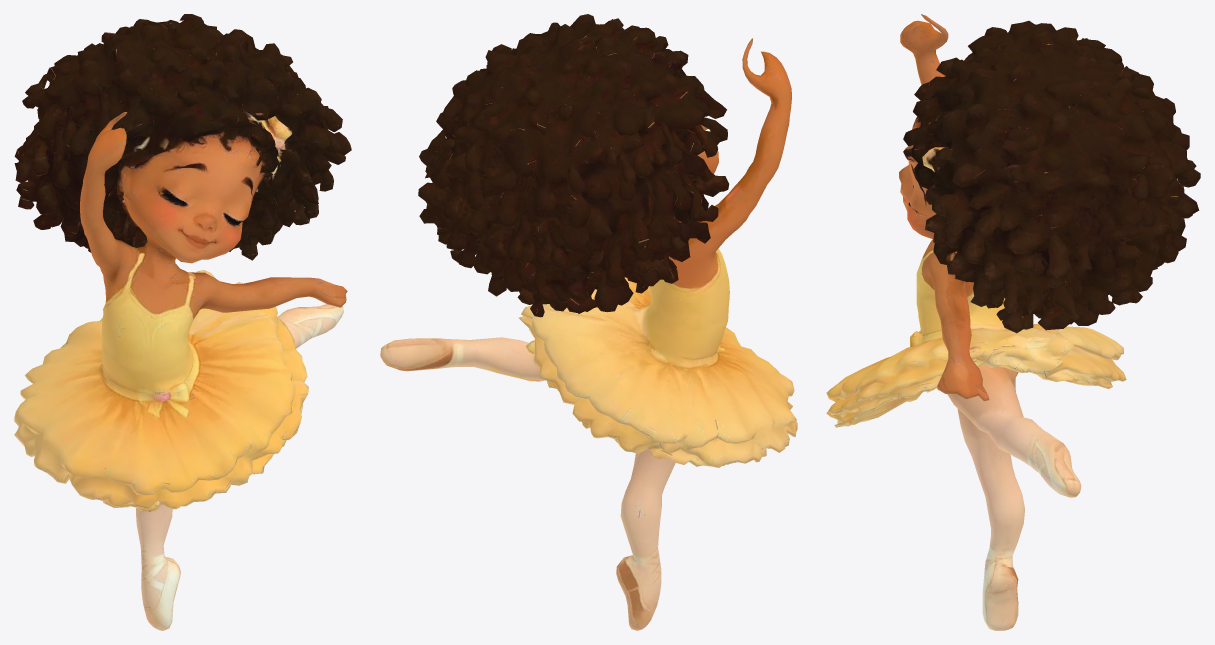
File: deise-bale.glb
The picture shows the model from 3 angles, left to right: view 1: azimuth 30°, elevation 25°; view 2: azimuth 150°, elevation 25°; view 3: azimuth 270°, elevation 25°; orthographic projection. The views are drawn at different scales.
Visible parts, largest first — view 1: ar-normalized; view 2: ar-normalized; view 3: ar-normalized.
Boxes of the visible parts, bbox=[...] form: ar-normalized: bbox=[14, 14, 351, 630]; ar-normalized: bbox=[380, 14, 797, 630]; ar-normalized: bbox=[826, 14, 1200, 630].
Size of the model in its own units: 0.6235 by 1 by 0.5617.
1 material, 1 textured.
